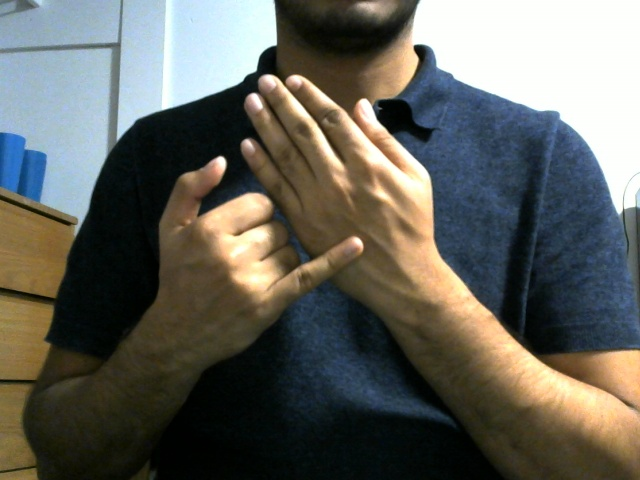Project: (139, 63, 465, 338)
